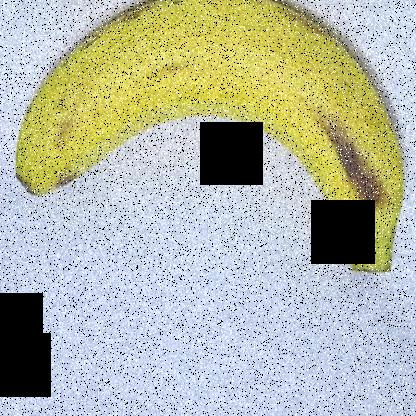freshripe: (8, 1, 415, 290)
